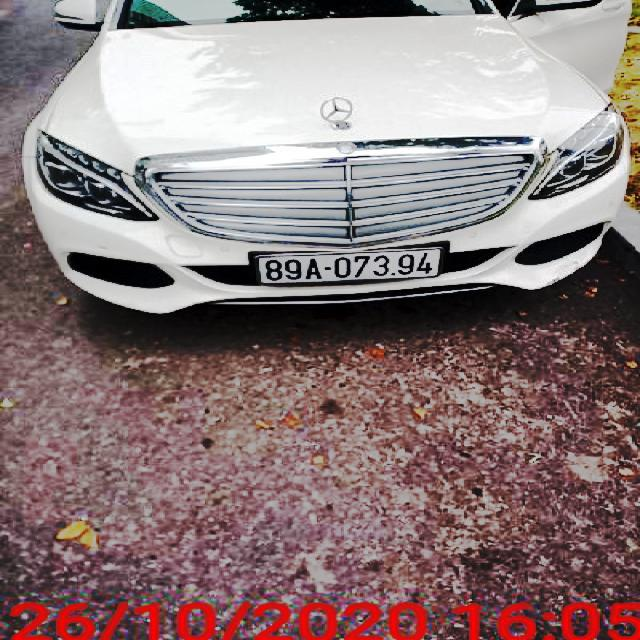license_plate: (256, 250, 442, 284)
